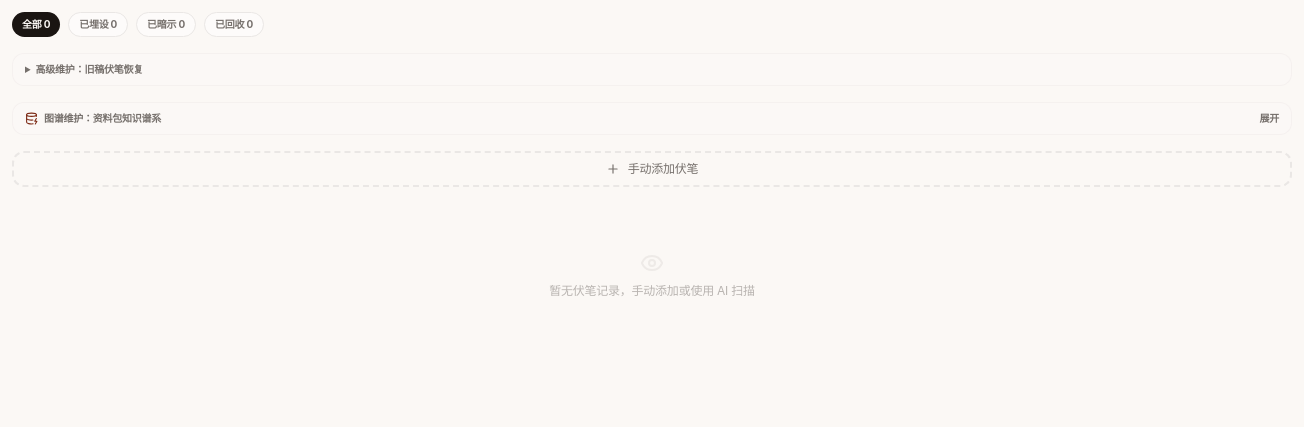
ForeshadowingPanel 图谱维护入口（D2） › 再次点击入口收起，面板从 DOM 移除
Click the button "图谱维护：资料包知识谱系 展开".
click(103, 118)  # box [13,103,1291,134]
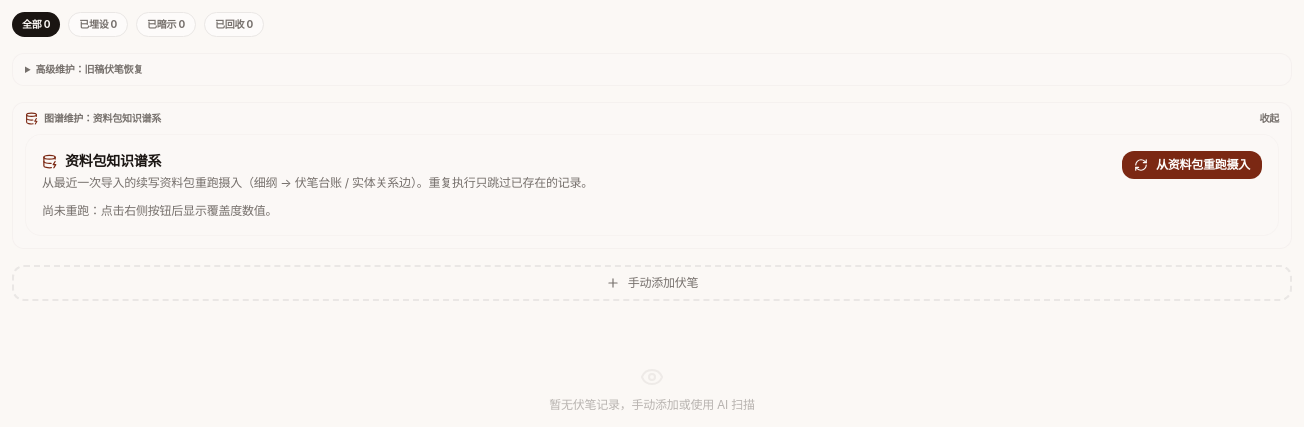
Expected: the element with test id "knowledge-maintenance-panel" is shown, [25,134,1279,236]
Click the button "图谱维护：资料包知识谱系 收起".
click(103, 118)  # box [13,103,1291,134]
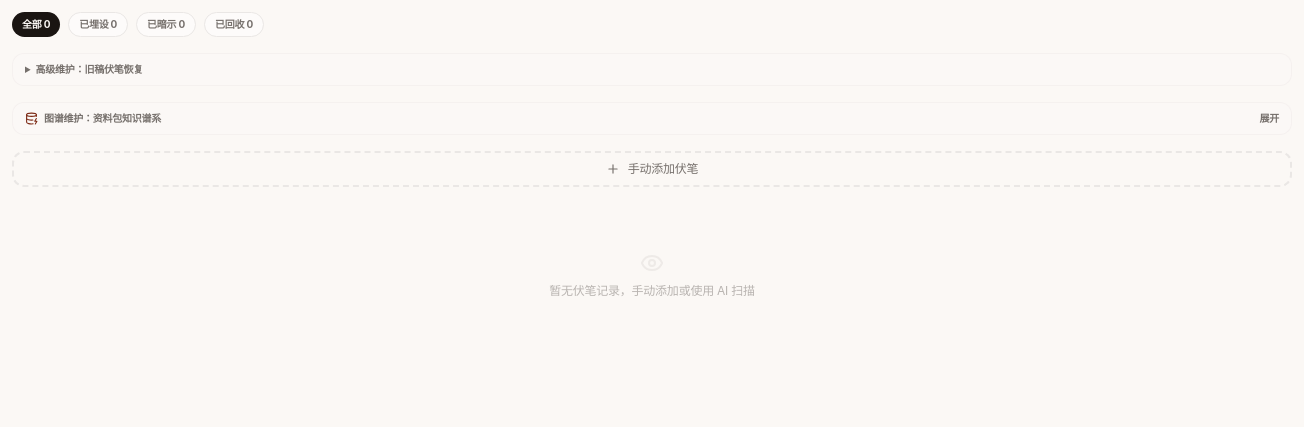
Expected: the element with test id "knowledge-maintenance-panel" is gone
